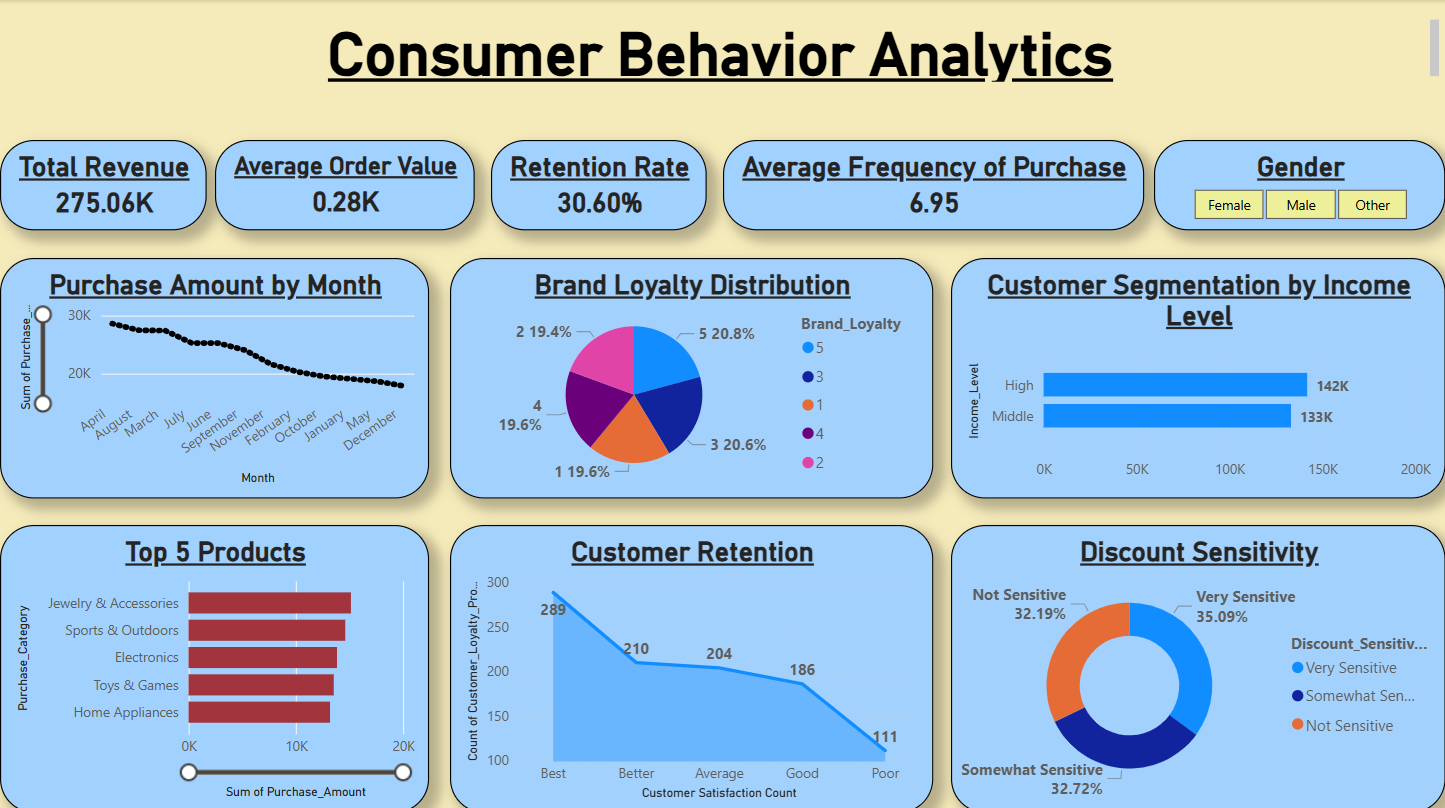

Layout of this report page (visuals, bound fields, positions):
{"tool":"powerbi","page":{"name":"Page 1","canvas":[1280,720],"ordinal":0},"visuals":[{"type":"card","title":"Total Revenue","fields":{"Values":["Ecommerce_Cleaned_Final.Total Revenue"]},"box":[0,123.7,182.6,80.2],"z":0},{"type":"card","title":"Average Order Value","fields":{"Values":["Ecommerce_Cleaned_Final.Average Order Value"]},"box":[190,123.7,229.6,80.2],"z":1},{"type":"card","title":"Retention Rate","fields":{"Values":["Ecommerce_Cleaned_Final.Rentention Rate"]},"box":[435.3,123.7,190.9,80.2],"z":2},{"type":"card","title":"Average Frequency of Purchase","fields":{"Values":["Avg(Ecommerce_Cleaned_Final.Frequency_of_Purchase)"]},"box":[640,123.7,372.6,80.2],"z":3},{"type":"slicer","title":"Gender","fields":{"Values":["Ecommerce_Cleaned_Final.Gender"]},"box":[1021.8,123.7,258.2,80.2],"z":4},{"type":"lineChart","title":" Purchase Amount by Month","fields":{"Category":["Ecommerce_Cleaned_Final.Month"],"Y":["Sum(Ecommerce_Cleaned_Final.Purchase_Amount)"]},"box":[0,228.8,379.9,213],"z":5},{"type":"barChart","title":"Top 5 Products","fields":{"Y":["Sum(Ecommerce_Cleaned_Final.Purchase_Amount)"],"Category":["Ecommerce_Cleaned_Final.Purchase_Category"]},"box":[0,464.8,379.9,255.4],"z":6},{"type":"pieChart","title":"Brand Loyalty Distribution","fields":{"Category":["Ecommerce_Cleaned_Final.Brand_Loyalty"],"Y":["CountNonNull(Ecommerce_Cleaned_Final.Customer_ID)"]},"box":[398.4,228.8,427.9,213],"z":7},{"type":"barChart","title":"Customer Segmentation by Income Level","fields":{"Category":["Ecommerce_Cleaned_Final.Income_Level"],"Y":["Sum(Ecommerce_Cleaned_Final.Purchase_Amount)"]},"box":[842,228.7,438,213],"z":8},{"type":"areaChart","title":"Customer Retention","fields":{"Category":["Ecommerce_Cleaned_Final.Customer Satisfaction Count"],"Y":["CountNonNull(Ecommerce_Cleaned_Final.Customer_Loyalty_Program_Member)"]},"box":[398.4,464.8,427.9,255.4],"z":9},{"type":"donutChart","title":"Discount Sensitivity","fields":{"Category":["Ecommerce_Cleaned_Final.Discount_Sensitivity"],"Y":["Sum(Ecommerce_Cleaned_Final.Purchase_Amount)"]},"box":[842,464.8,438,255.4],"z":10},{"type":"textbox","box":[4.6,12,1275.4,64.6],"z":11}]}

Visuals, with their boxes in screenshot pixels (x1, y1, x2, y2), scaled from the page's 1280x720 canvas onto the 1445x808 screenshot:
"Total Revenue" card: {"x1": 0, "y1": 139, "x2": 206, "y2": 229}
"Average Order Value" card: {"x1": 214, "y1": 139, "x2": 474, "y2": 229}
"Retention Rate" card: {"x1": 491, "y1": 139, "x2": 707, "y2": 229}
"Average Frequency of Purchase" card: {"x1": 722, "y1": 139, "x2": 1143, "y2": 229}
"Gender" slicer: {"x1": 1154, "y1": 139, "x2": 1444, "y2": 229}
" Purchase Amount by Month" lineChart: {"x1": 0, "y1": 257, "x2": 429, "y2": 496}
"Top 5 Products" barChart: {"x1": 0, "y1": 522, "x2": 429, "y2": 807}
"Brand Loyalty Distribution" pieChart: {"x1": 450, "y1": 257, "x2": 933, "y2": 496}
"Customer Segmentation by Income Level" barChart: {"x1": 951, "y1": 257, "x2": 1444, "y2": 496}
"Customer Retention" areaChart: {"x1": 450, "y1": 522, "x2": 933, "y2": 807}
"Discount Sensitivity" donutChart: {"x1": 951, "y1": 522, "x2": 1444, "y2": 807}
textbox: {"x1": 5, "y1": 13, "x2": 1444, "y2": 86}
